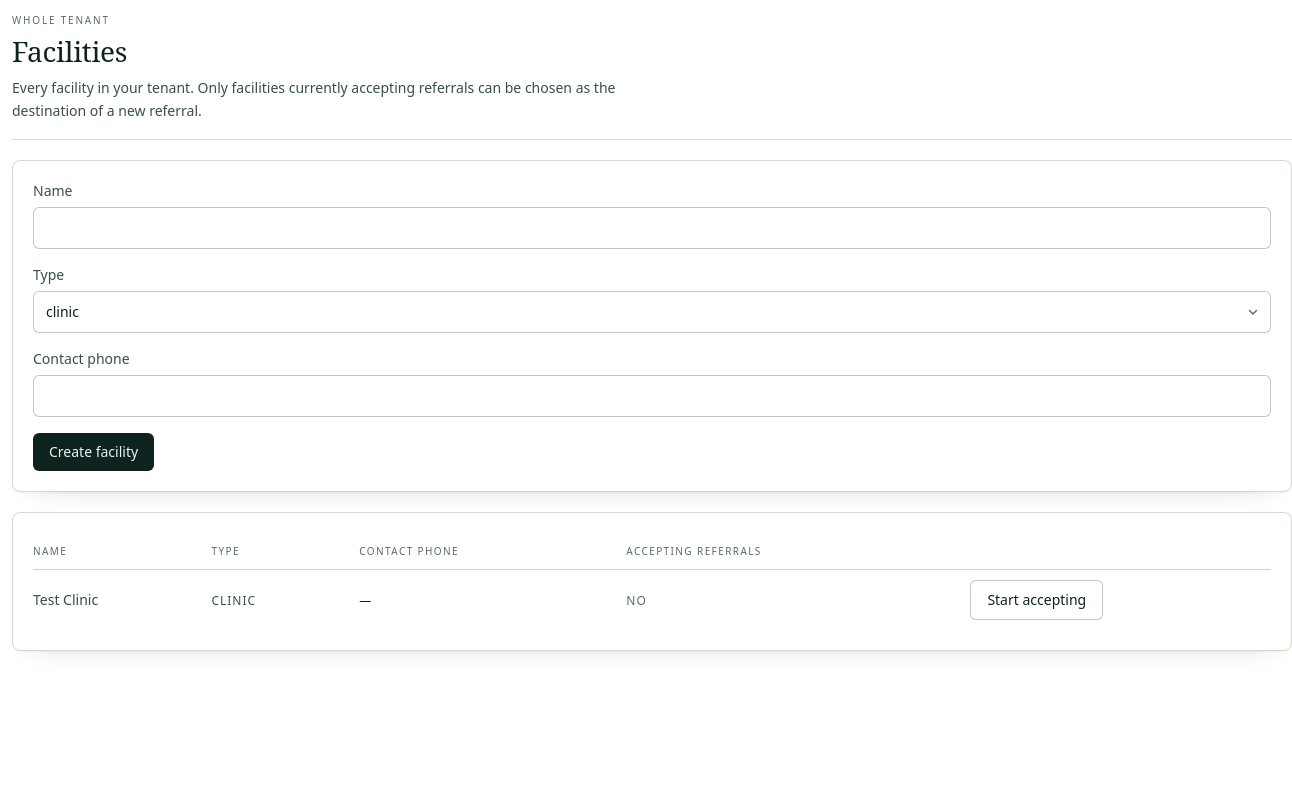
Test: FacilitiesPage › toggles acceptingReferrals via PATCH when the button is clicked
Expected: the text "Test Clinic" is shown, top-left (33, 569), bottom-right (200, 630)
Click the button "Start accepting" at {"x": 1037, "y": 600}, box top-left (970, 580), bottom-right (1103, 620)
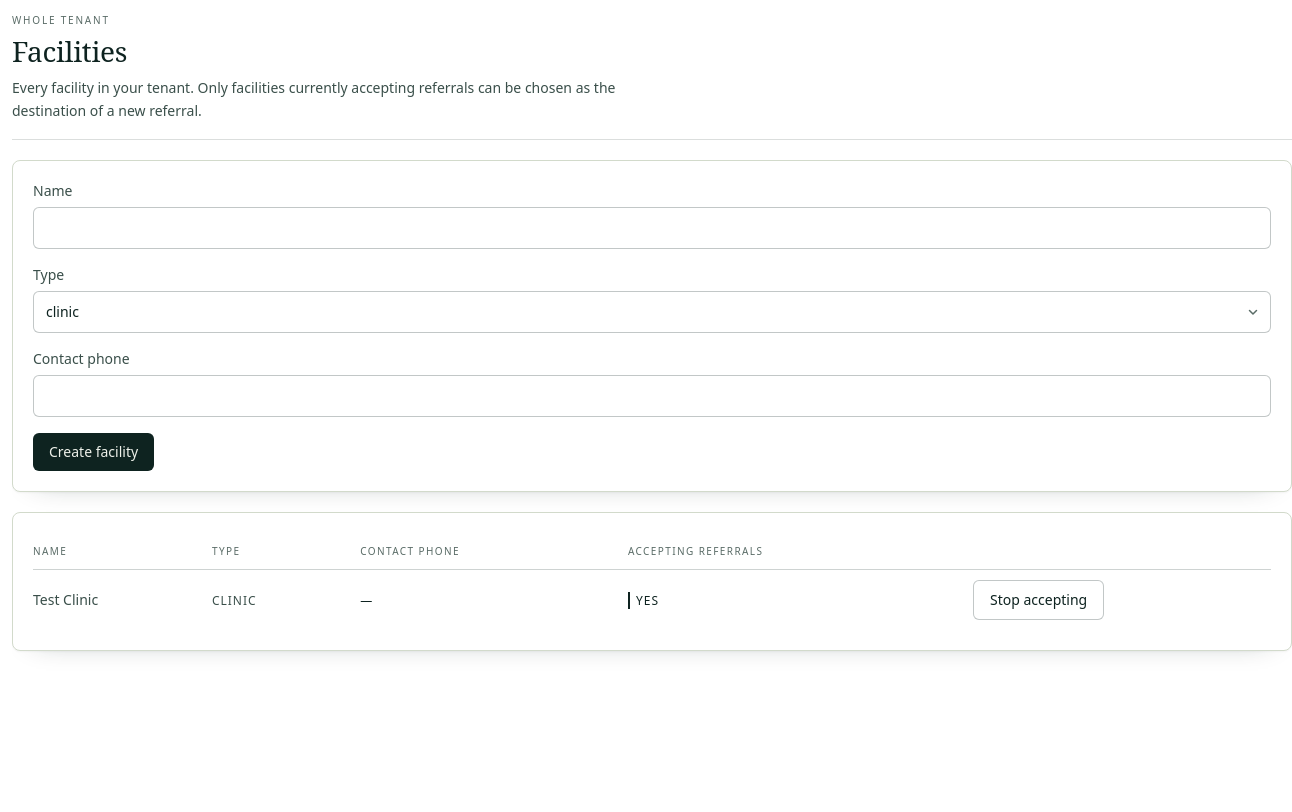
Expected: the button "Stop accepting" is shown, top-left (973, 580), bottom-right (1104, 620)
